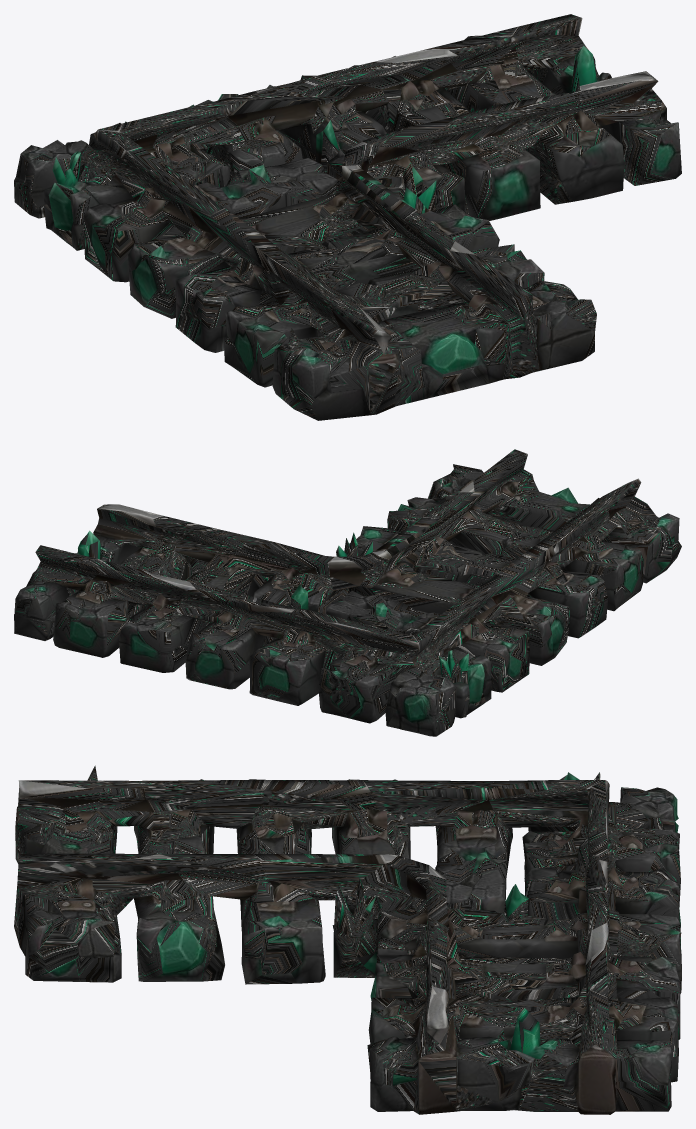
File: rail_track_segment_01.glb
3 renders of one model, top to bottom at view 1: azimuth 30°, elevation 25°; view 2: azimuth 150°, elevation 25°; view 3: azimuth 270°, elevation 25°, orthographic. The views are drawn at different scales.
Visible parts, largest first — view 1: tripo_node_b9743bb1-ba4e-4e89-ae28-975a2ffe2c6b; view 2: tripo_node_b9743bb1-ba4e-4e89-ae28-975a2ffe2c6b; view 3: tripo_node_b9743bb1-ba4e-4e89-ae28-975a2ffe2c6b.
Boxes of the visible parts, x1,y1,x2,y2 form: tripo_node_b9743bb1-ba4e-4e89-ae28-975a2ffe2c6b: (14, 14, 681, 420); tripo_node_b9743bb1-ba4e-4e89-ae28-975a2ffe2c6b: (14, 449, 681, 736); tripo_node_b9743bb1-ba4e-4e89-ae28-975a2ffe2c6b: (14, 765, 681, 1114).
Bounding box in the file's own units: 0.9825 × 0.152 × 0.9817.
Materials: 1 (1 with a texture image).
